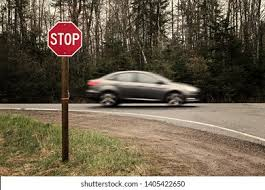stop sign: (47, 21, 83, 57)
